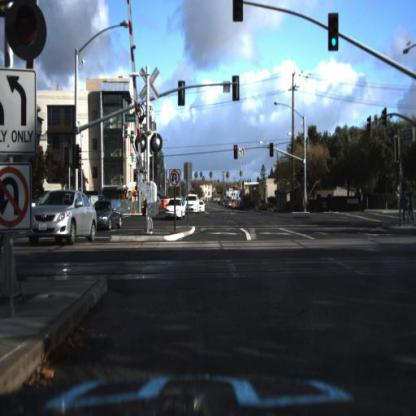biker: (396, 186, 407, 227)
car: (25, 190, 98, 251), (93, 198, 123, 235), (96, 199, 126, 230), (165, 200, 187, 225), (184, 193, 202, 218), (166, 197, 184, 221), (143, 198, 159, 220), (197, 199, 207, 216)
pedestrian: (356, 185, 367, 214), (360, 190, 369, 213), (409, 190, 414, 225)
trafficLight: (8, 4, 53, 69), (329, 13, 339, 50), (232, 1, 244, 25), (233, 140, 239, 162), (269, 141, 276, 158)
trafficLight-Green: (300, 163, 306, 181)
